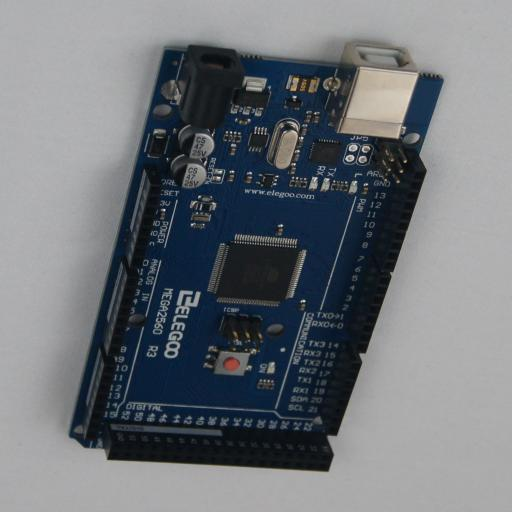Arduino Mega 2560 -Blue-: (69, 44, 443, 472)
